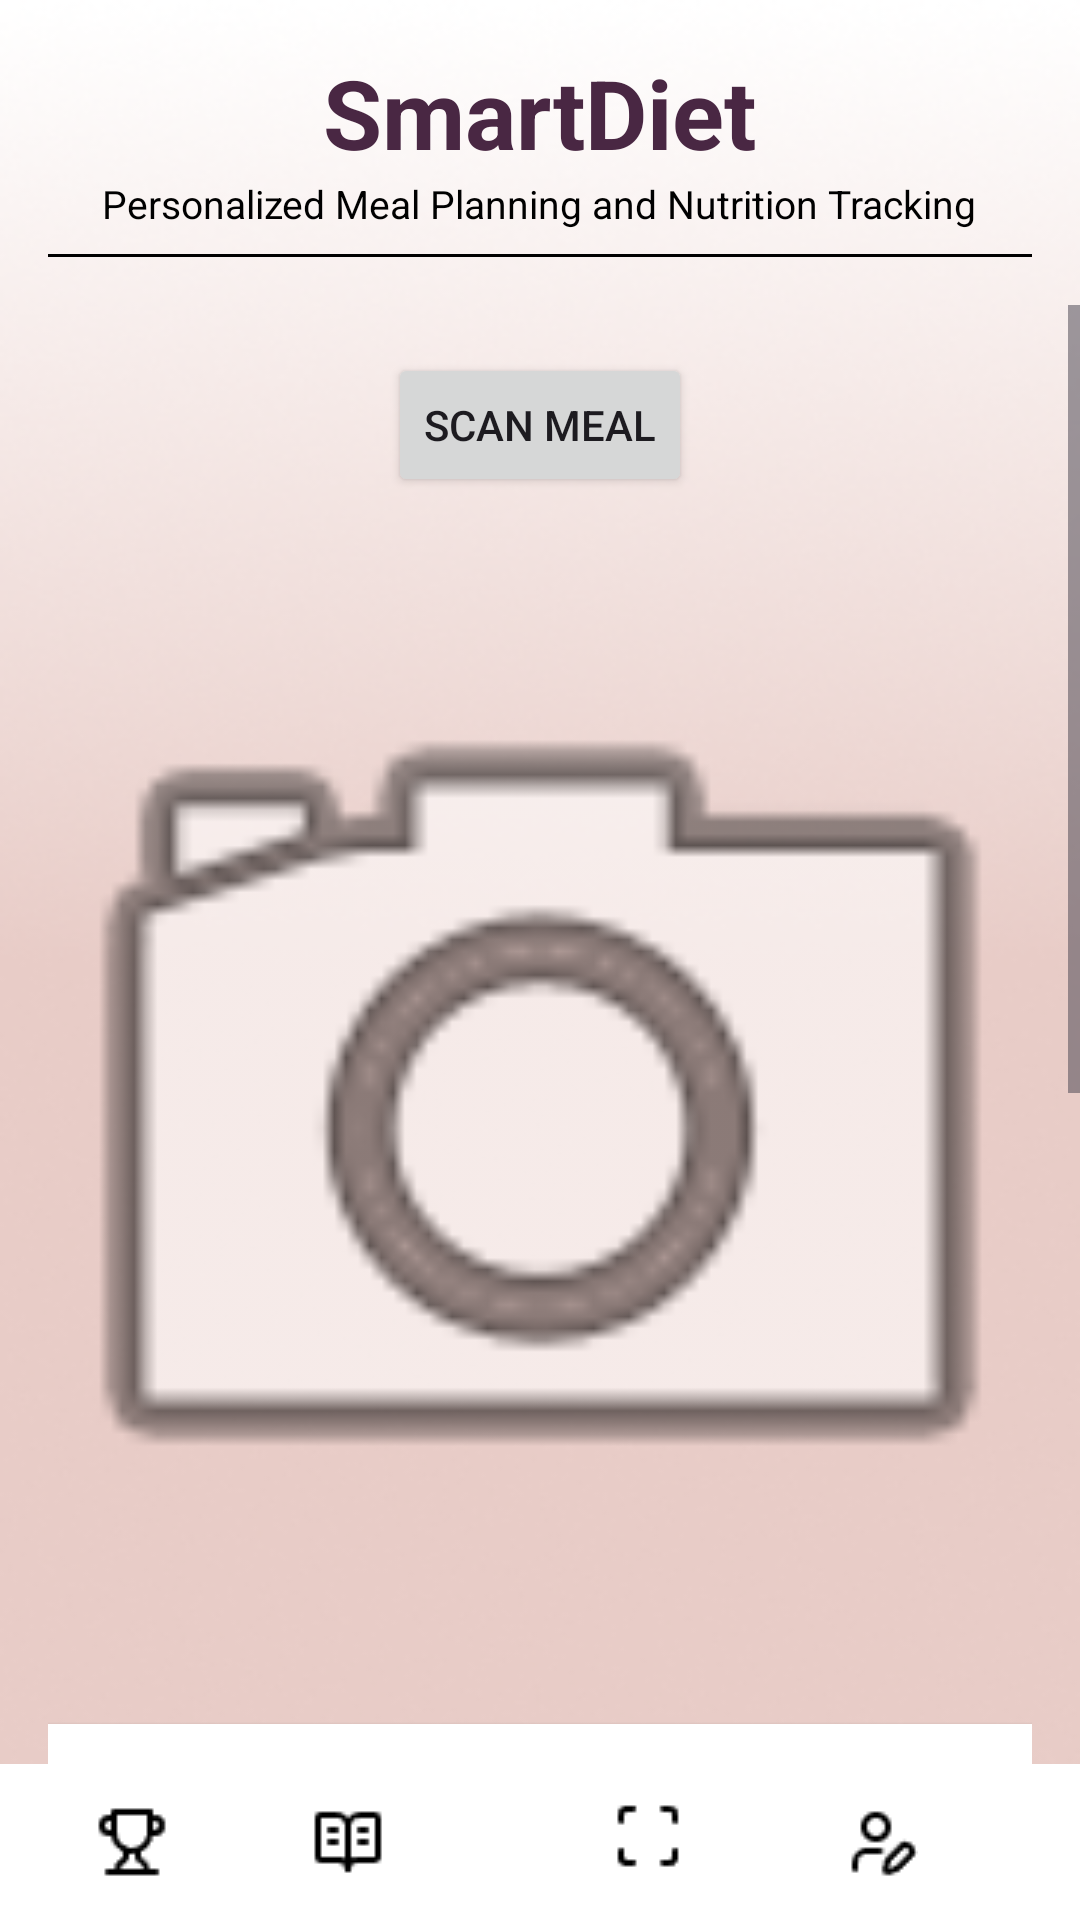

Icon bounding boxes for this 1080 × 1920 phone screenshot, format {"x1": x1, "y1": y1, "x2": x2, "y2": y2}:
book open text: {"x1": 314, "y1": 1811, "x2": 382, "y2": 1873}
scan: {"x1": 617, "y1": 1805, "x2": 679, "y2": 1867}
trophy: {"x1": 98, "y1": 1808, "x2": 166, "y2": 1876}
user pen: {"x1": 851, "y1": 1811, "x2": 918, "y2": 1876}
